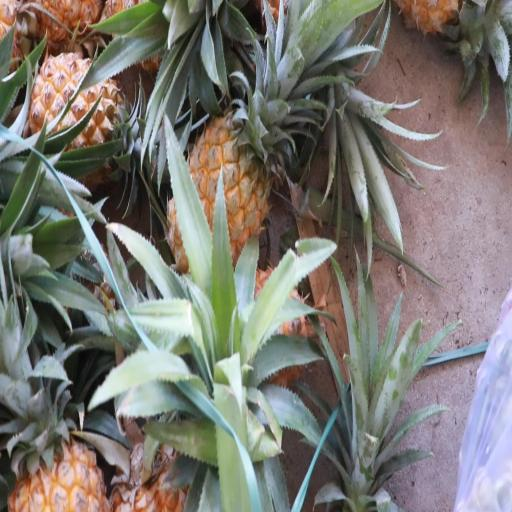Pineapple - v8 v1: (162, 108, 277, 302), (25, 43, 131, 194)
